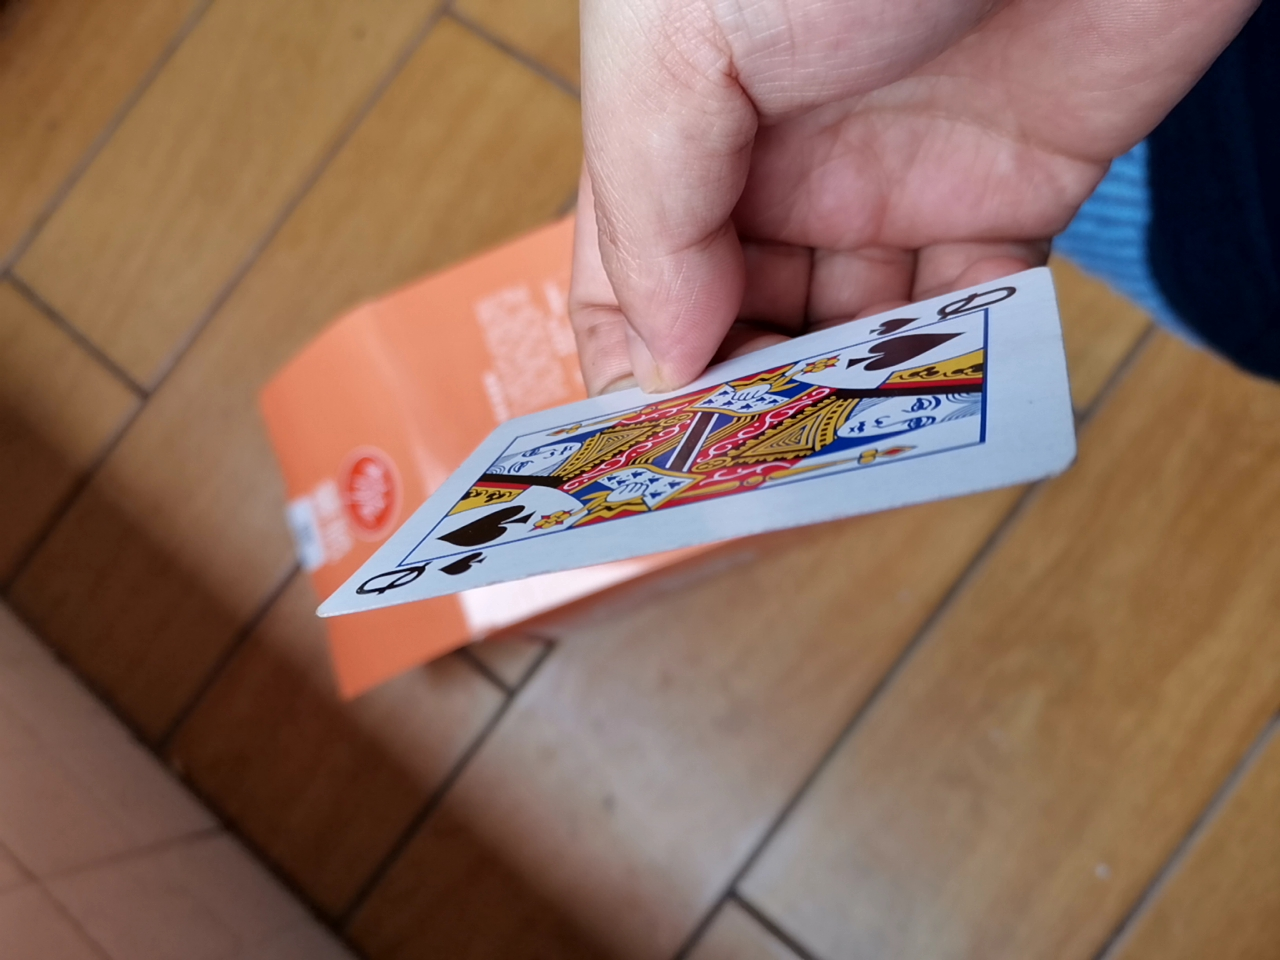ht q: (241, 237, 1103, 633)
